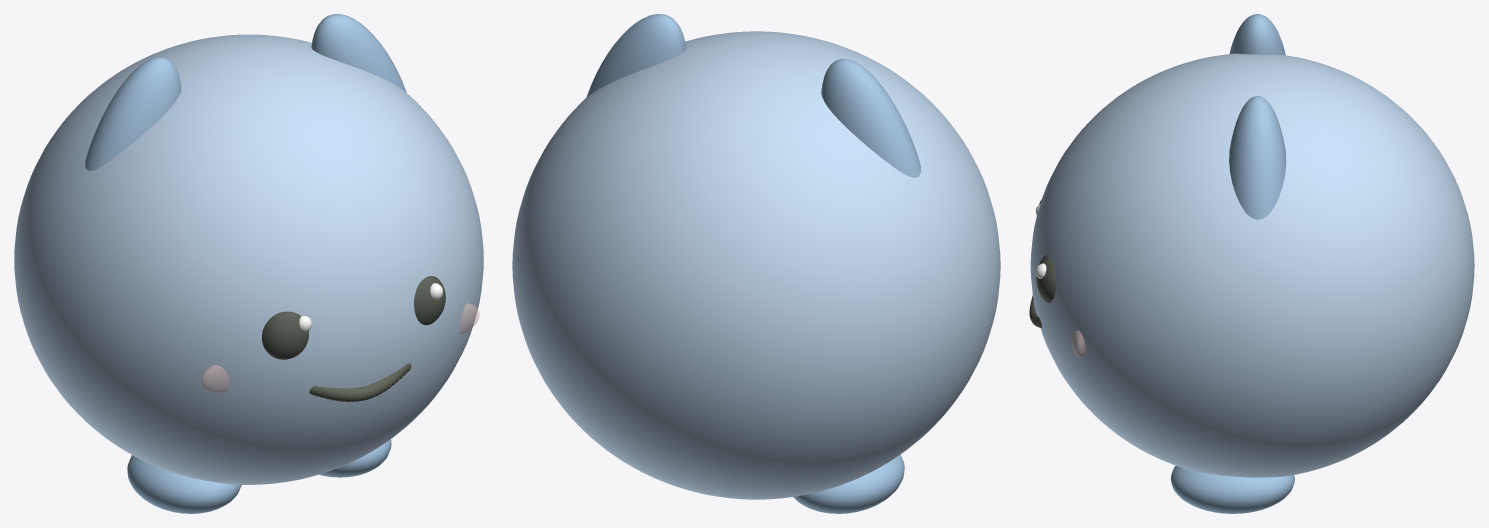
Rendered from puch.glb.
3 renders of one model, left to right at view 1: azimuth 30°, elevation 25°; view 2: azimuth 150°, elevation 25°; view 3: azimuth 270°, elevation 25°, orthographic. The views are drawn at different scales.
Size of the model in its own units: 1.8 by 1.86 by 1.8.
